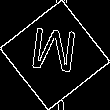M_S: (29, 27, 81, 83)
